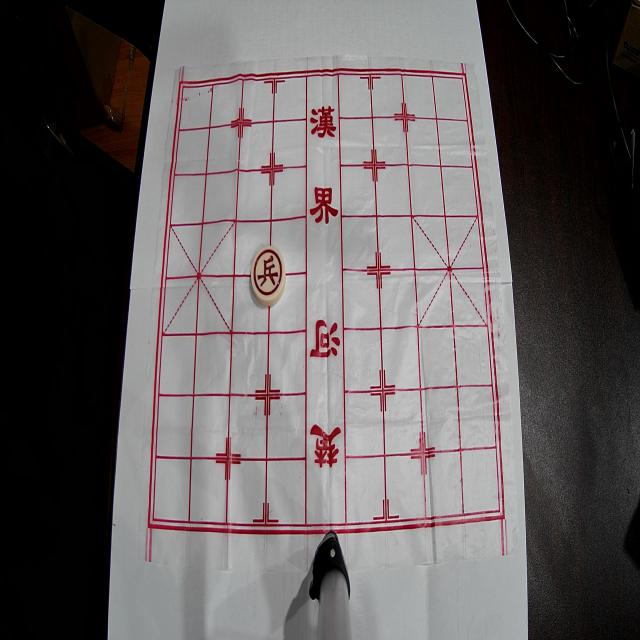red-soldier: (250, 246, 286, 306)
